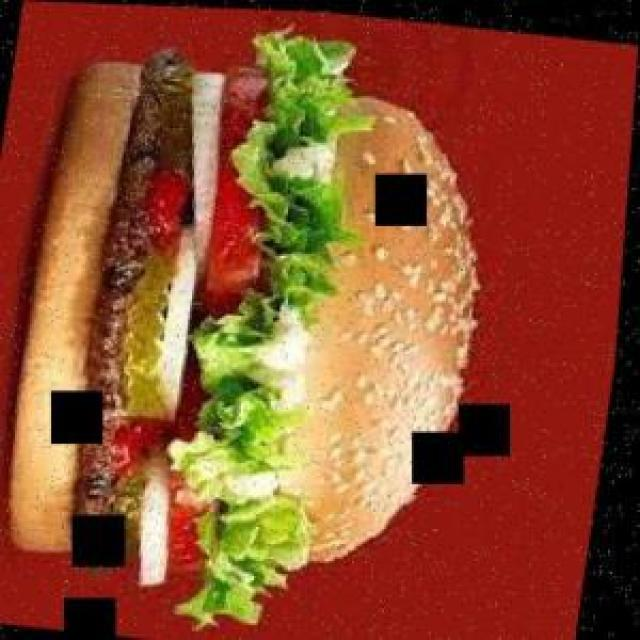Burger: (165, 30, 480, 630), (70, 45, 198, 582)
